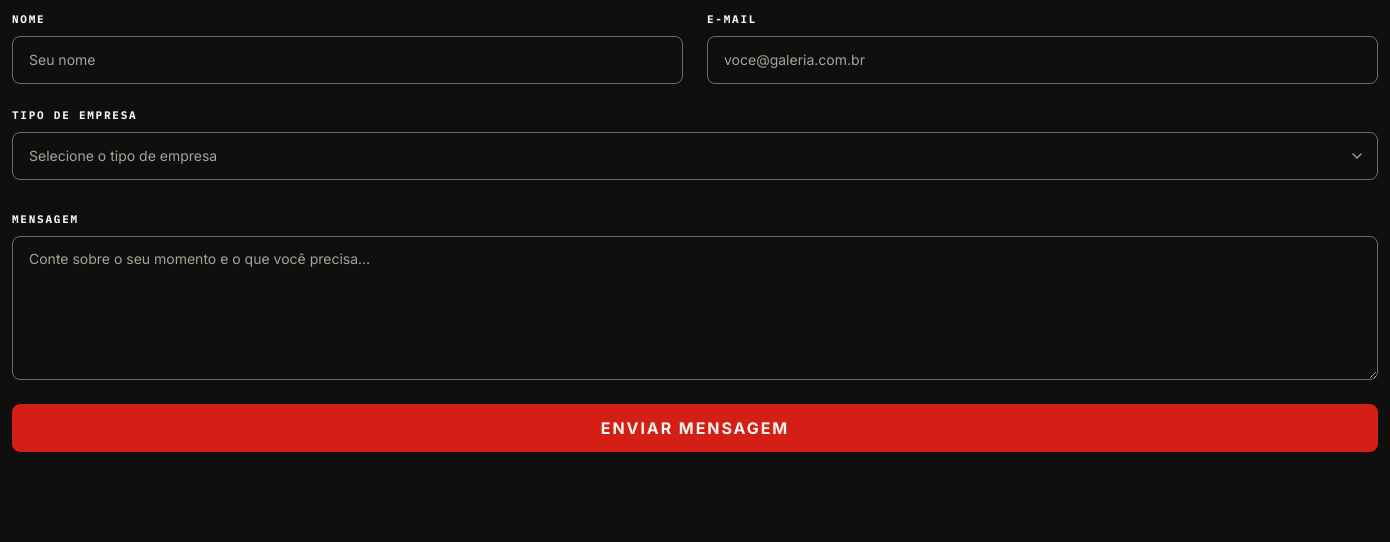
Test case: ContactForm (Fase 4.2/4.7 / RF-08) › bloqueia o submit e mostra mensagens de validação (client)
Step 1. Click the button "ENVIAR MENSAGEM" → (695, 428), box x1=12 y1=404 x2=1378 y2=452
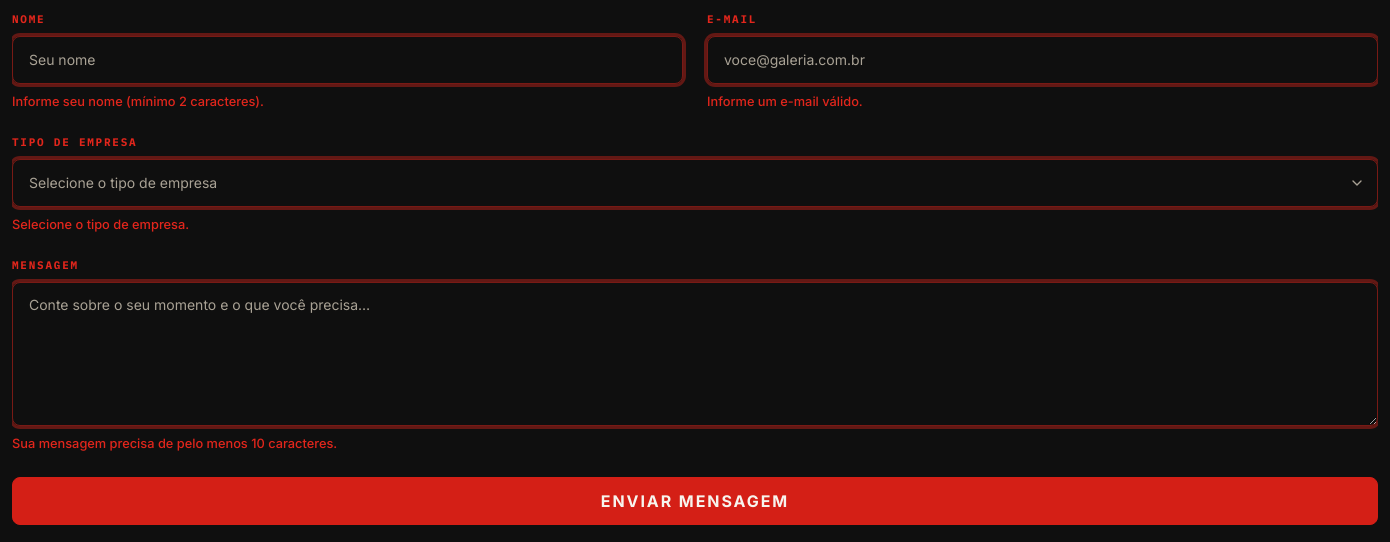
Now the text "Informe seu nome (mínimo 2 caracteres)." is shown, box x1=12 y1=94 x2=264 y2=109
Now the text "Informe um e-mail válido." is shown, box x1=707 y1=94 x2=863 y2=109
Now the text "Selecione o tipo de empresa." is shown, box x1=12 y1=217 x2=189 y2=232
